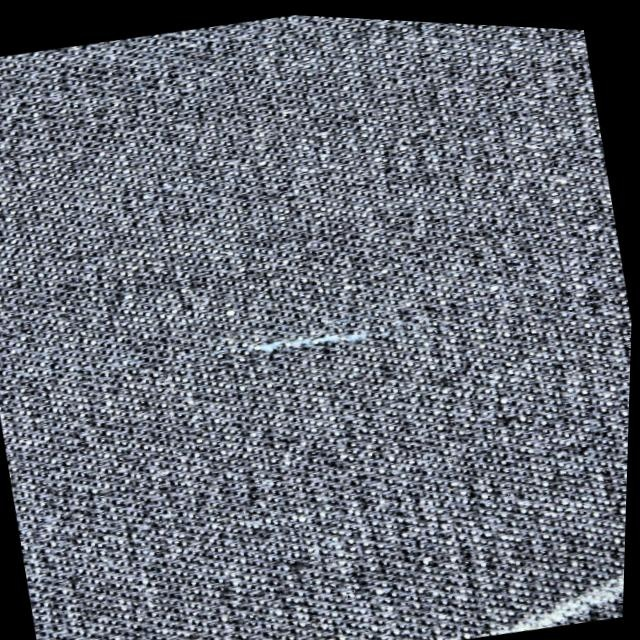Hole: (237, 308, 381, 374)
